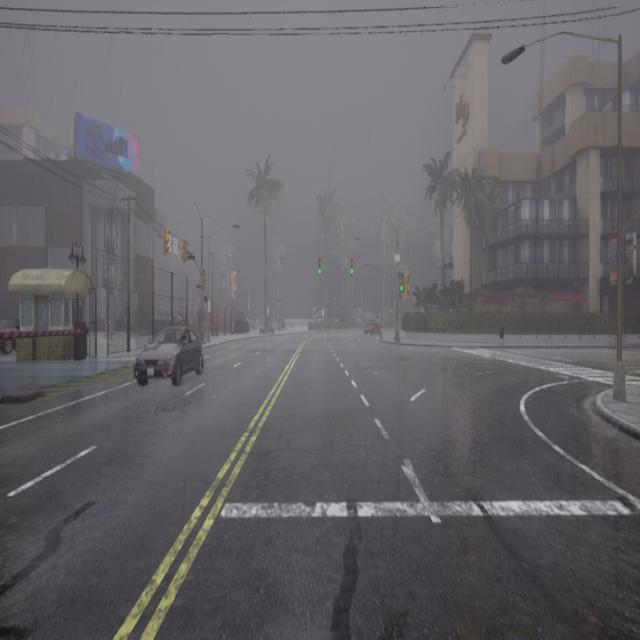6: (165, 232, 168, 237), (185, 243, 188, 248), (204, 274, 206, 277)
9: (163, 229, 170, 253), (183, 240, 188, 262), (317, 255, 322, 277), (399, 274, 404, 292), (350, 257, 354, 277), (203, 270, 207, 290)
bien_hieu_lenh: (350, 268, 354, 275), (318, 268, 321, 274), (400, 286, 403, 292)
